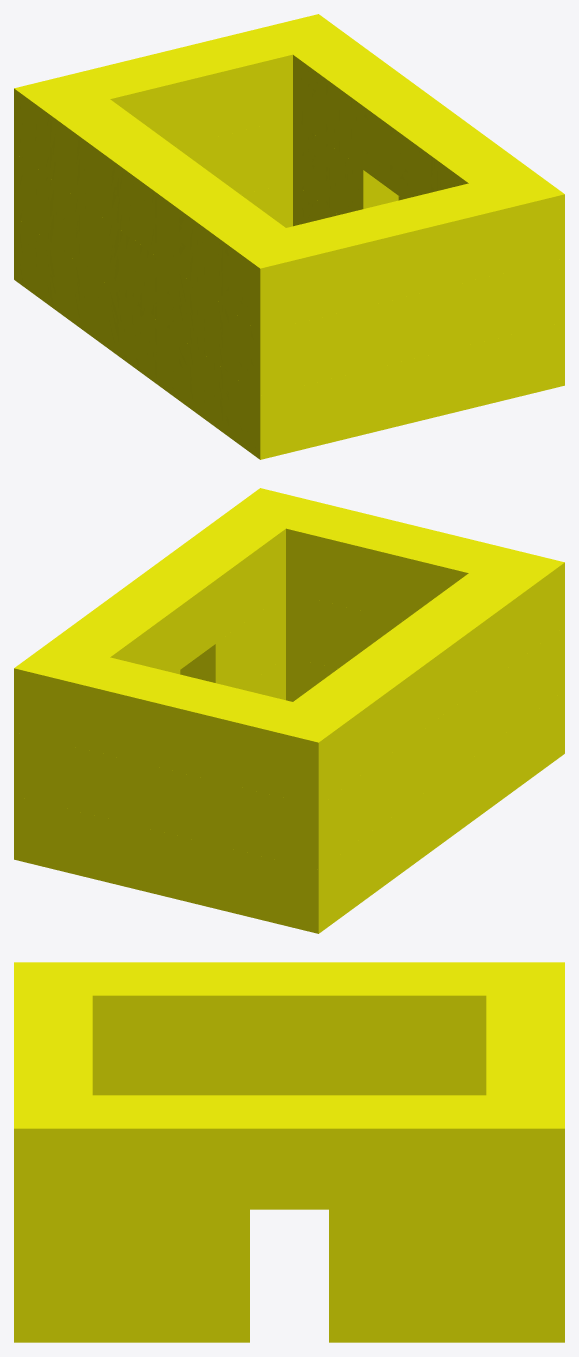
Rendered from house.gltf.
3 views of the same model, one above another, from view 1: azimuth 30°, elevation 25°; view 2: azimuth 150°, elevation 25°; view 3: azimuth 270°, elevation 25° (orthographic). The views are drawn at different scales.
Parts seen in each view (by area): view 1: Part (×48); view 2: Part (×48); view 3: Part (×38).
Boxes of the visible parts, <box> form: Part (×48): <box>14,14,564,459</box>; Part (×48): <box>14,488,564,933</box>; Part (×38): <box>14,962,564,1342</box>.
Bounding box in the file's own units: 20 × 12 × 28.
